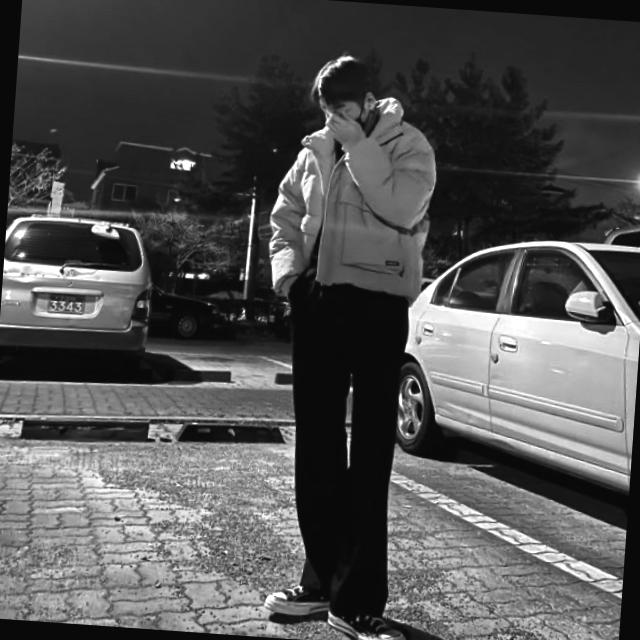slacks: (270, 273, 411, 617), (265, 89, 442, 306)
